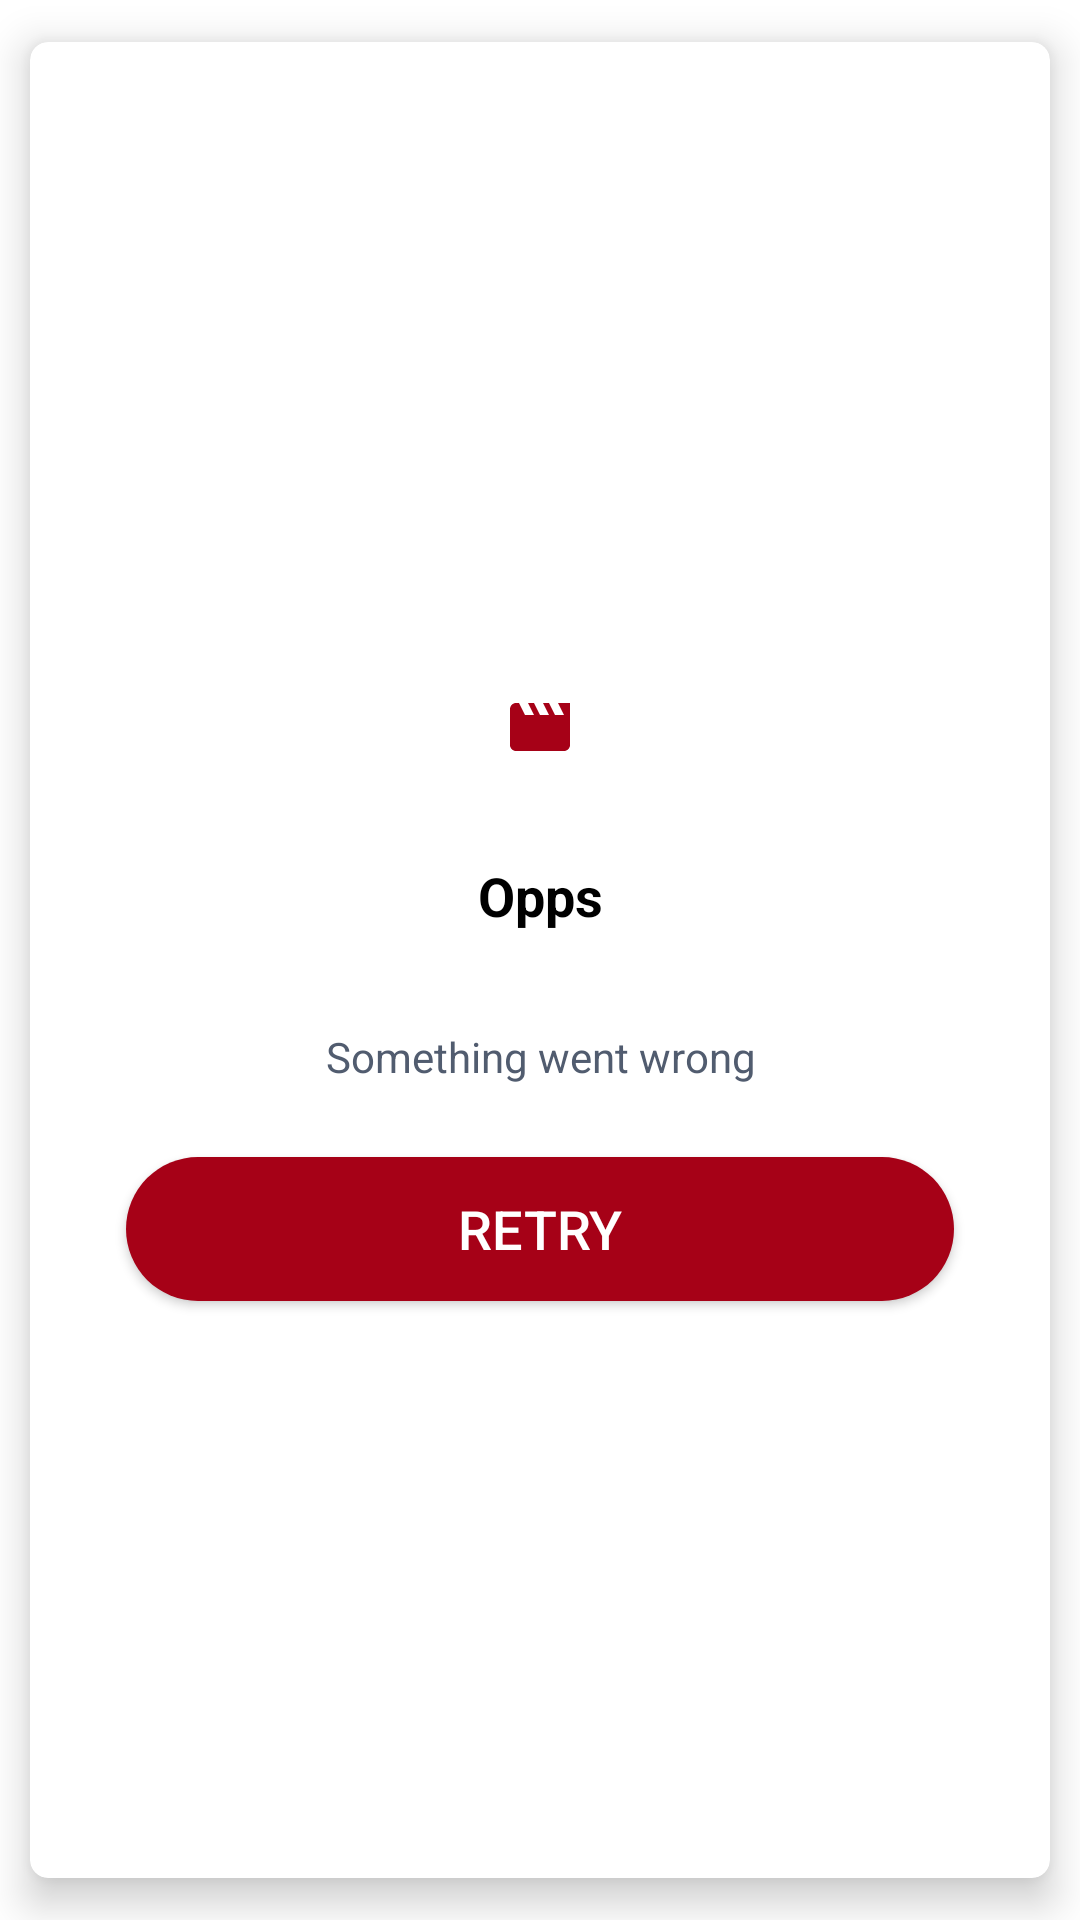

Point at icon controls on the screen. Image size 1080 × 1920, points as [x,y].
movie: [540,727]
